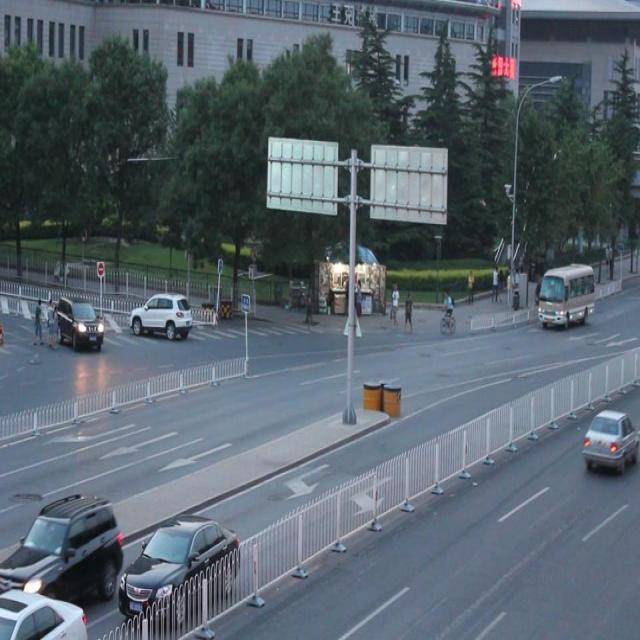car: (120, 512, 242, 627), (1, 493, 122, 607), (0, 585, 89, 640), (580, 407, 640, 467), (128, 292, 192, 342), (54, 292, 104, 350)
truck: (537, 263, 593, 326)
